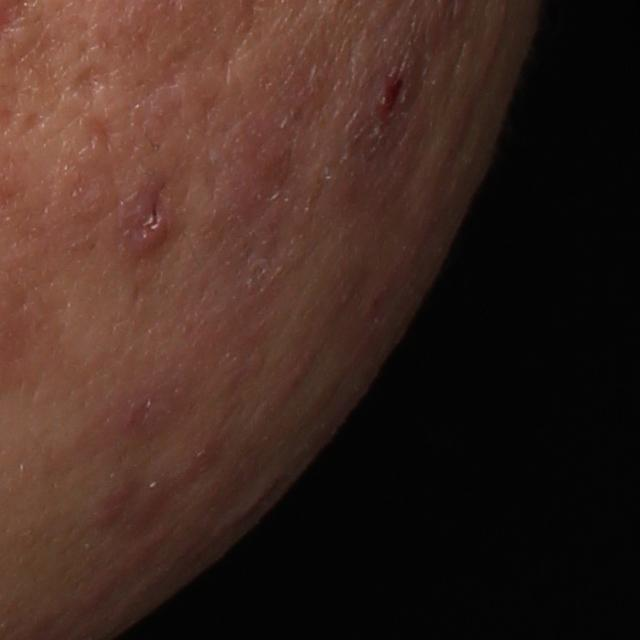atrophic_scar: (72, 61, 113, 107)
papule: (216, 118, 302, 218), (356, 61, 419, 147), (118, 182, 174, 261), (107, 388, 176, 445), (90, 480, 135, 529), (180, 438, 216, 478)
